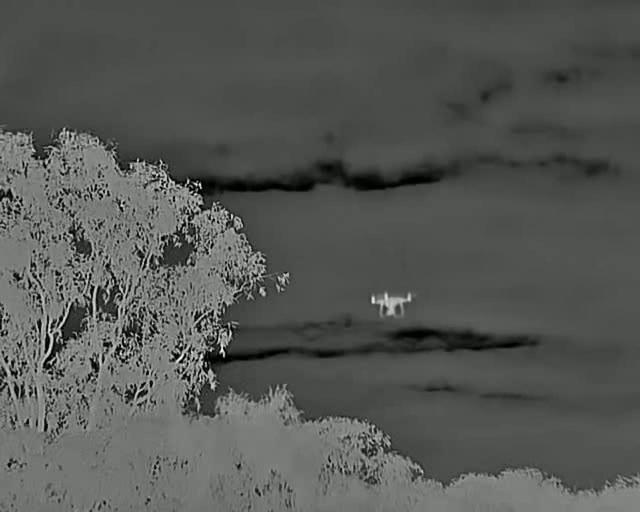DJI-Phantom: (371, 287, 418, 321)
